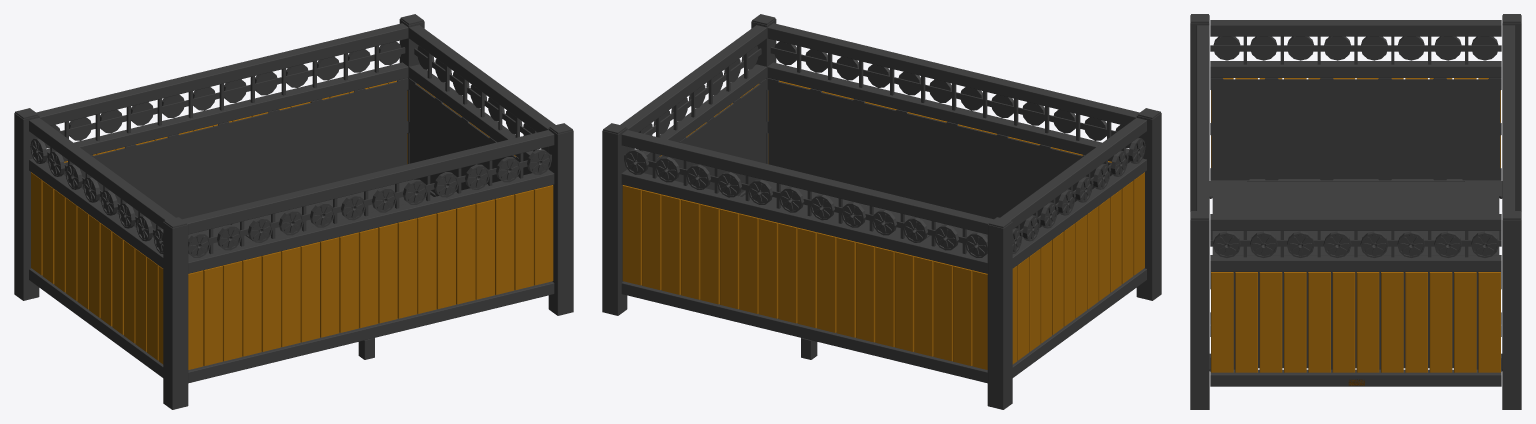
3 renders of one model, left to right at view 1: azimuth 30°, elevation 25°; view 2: azimuth 150°, elevation 25°; view 3: azimuth 270°, elevation 25°, orthographic. The views are drawn at different scales.
Visible parts, largest first — view 1: mesh21.002_mesh21-geometry, mesh69.002_mesh69-geometry, mesh50.002_mesh50-geometry, mesh70.002_mesh70-geometry, mesh51.002_mesh51-geometry, mesh83.002_mesh83-geometry, mesh86.002_mesh86-geometry, mesh20.002_mesh20-geometry, mesh87.002_mesh87-geometry, mesh68.002_mesh68-geometry, mesh43.002_mesh43-geometry, mesh47.002_mesh47-geometry (+50 smaller); view 2: mesh22.002_mesh22-geometry, mesh50.002_mesh50-geometry, mesh69.002_mesh69-geometry, mesh51.002_mesh51-geometry, mesh70.002_mesh70-geometry, mesh64.002_mesh64-geometry, mesh68.002_mesh68-geometry, mesh20.002_mesh20-geometry, mesh67.002_mesh67-geometry, mesh86.002_mesh86-geometry, mesh43.002_mesh43-geometry, mesh47.002_mesh47-geometry (+50 smaller); view 3: mesh19.002_mesh19-geometry, mesh1.004_mesh1-geometry, mesh47.002_mesh47-geometry, mesh43.002_mesh43-geometry, mesh45.002_mesh45-geometry, mesh49.002_mesh49-geometry, mesh48.002_mesh48-geometry, mesh87.002_mesh87-geometry, mesh67.002_mesh67-geometry, mesh69.002_mesh69-geometry, mesh50.002_mesh50-geometry, mesh20.002_mesh20-geometry (+33 smaller).
Boxes of the visible parts, x1,y1,x2,y2 form: mesh21.002_mesh21-geometry: (63,78,408,236); mesh69.002_mesh69-geometry: (182,130,554,234); mesh50.002_mesh50-geometry: (36,23,408,125); mesh70.002_mesh70-geometry: (188,169,554,273); mesh51.002_mesh51-geometry: (46,62,408,163); mesh83.002_mesh83-geometry: (188,281,554,383); mesh86.002_mesh86-geometry: (163,222,188,409); mesh20.002_mesh20-geometry: (409,78,531,196); mesh87.002_mesh87-geometry: (548,127,573,315); mesh68.002_mesh68-geometry: (14,113,39,300); mesh43.002_mesh43-geometry: (29,118,175,228); mesh47.002_mesh47-geometry: (409,25,555,132); mesh22.002_mesh22-geometry: (767,78,1112,236); mesh50.002_mesh50-geometry: (621,130,993,234); mesh69.002_mesh69-geometry: (767,23,1139,125); mesh51.002_mesh51-geometry: (621,169,987,273); mesh70.002_mesh70-geometry: (767,62,1129,163); mesh64.002_mesh64-geometry: (621,281,987,383); mesh68.002_mesh68-geometry: (987,222,1012,409); mesh20.002_mesh20-geometry: (644,78,766,196); mesh67.002_mesh67-geometry: (602,127,627,315); mesh86.002_mesh86-geometry: (1136,113,1161,300); mesh43.002_mesh43-geometry: (1000,118,1146,228); mesh47.002_mesh47-geometry: (620,25,766,132); mesh19.002_mesh19-geometry: (1210,78,1501,180); mesh1.004_mesh1-geometry: (1212,181,1499,254); mesh47.002_mesh47-geometry: (1210,214,1501,230); mesh43.002_mesh43-geometry: (1210,20,1501,36); mesh45.002_mesh45-geometry: (1210,61,1501,77); mesh49.002_mesh49-geometry: (1210,255,1501,271); mesh48.002_mesh48-geometry: (1210,369,1501,386); mesh87.002_mesh87-geometry: (1190,212,1209,409); mesh67.002_mesh67-geometry: (1502,212,1521,409); mesh69.002_mesh69-geometry: (1196,25,1209,211); mesh50.002_mesh50-geometry: (1502,25,1515,211); mesh20.002_mesh20-geometry: (1210,272,1501,369).
Size of the model in its own units: 0.7772 by 0.338 by 0.5307.
